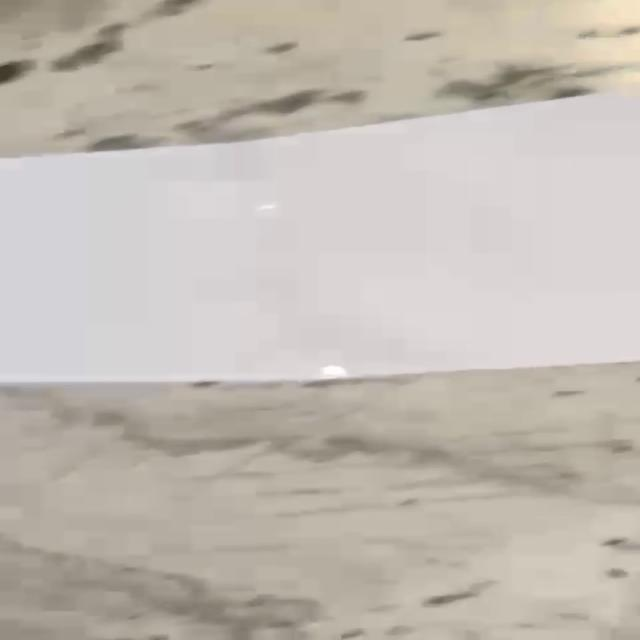road: (0, 92, 640, 387)
